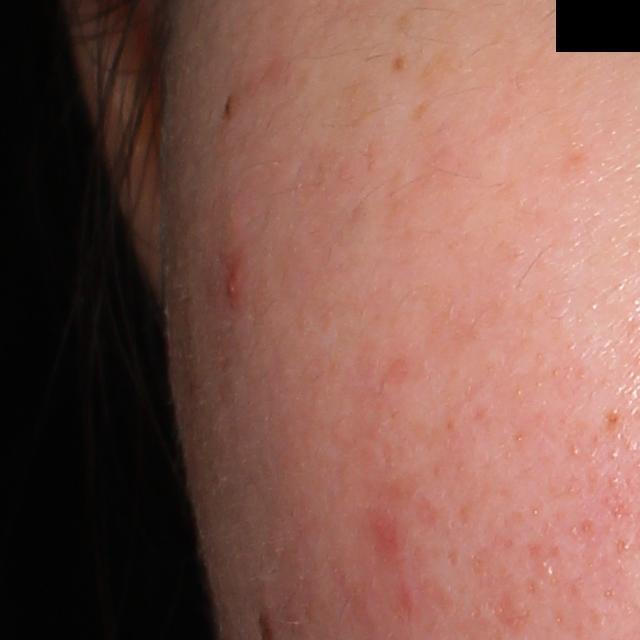melasma: (412, 45, 465, 121), (391, 51, 412, 73)
nevus: (222, 93, 234, 120)
papule: (223, 257, 245, 302)
